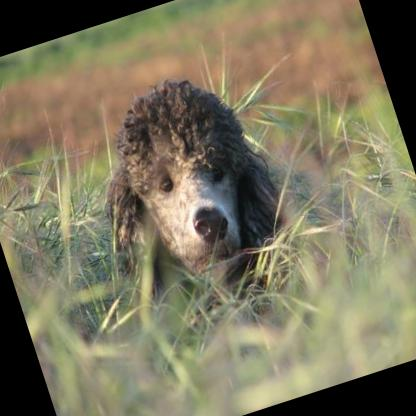standard_poodle: (52, 56, 304, 340)
